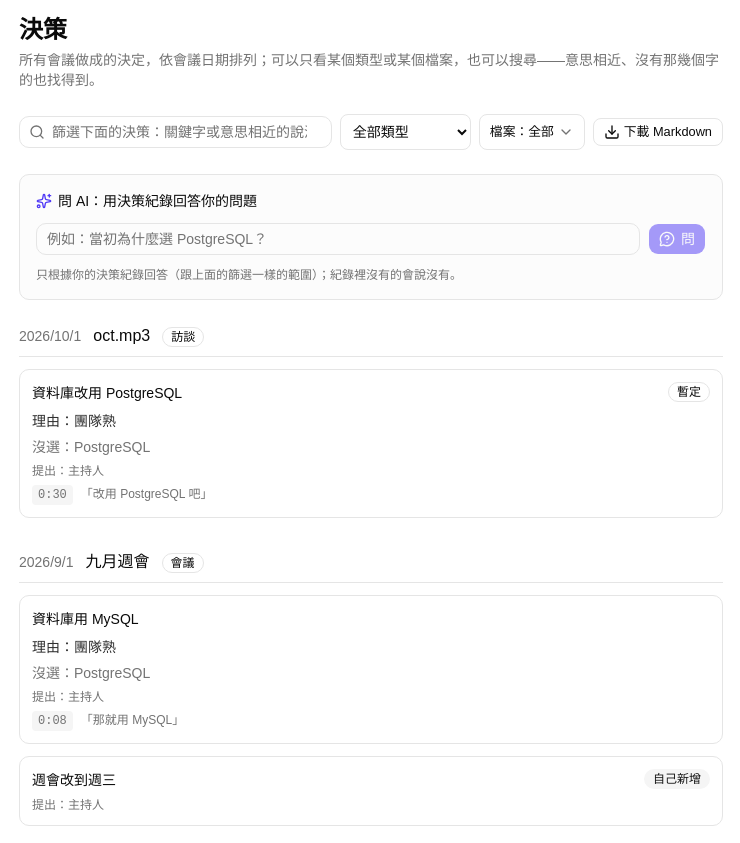
Scenario: DecisionsPage › searches once typing pauses, showing the best matches first with their meeting
The width and height of the screenshot is (740, 843).
Type "資料庫" into the search field named "搜尋決策" at coordinates (175, 132), box [19, 116, 332, 148]
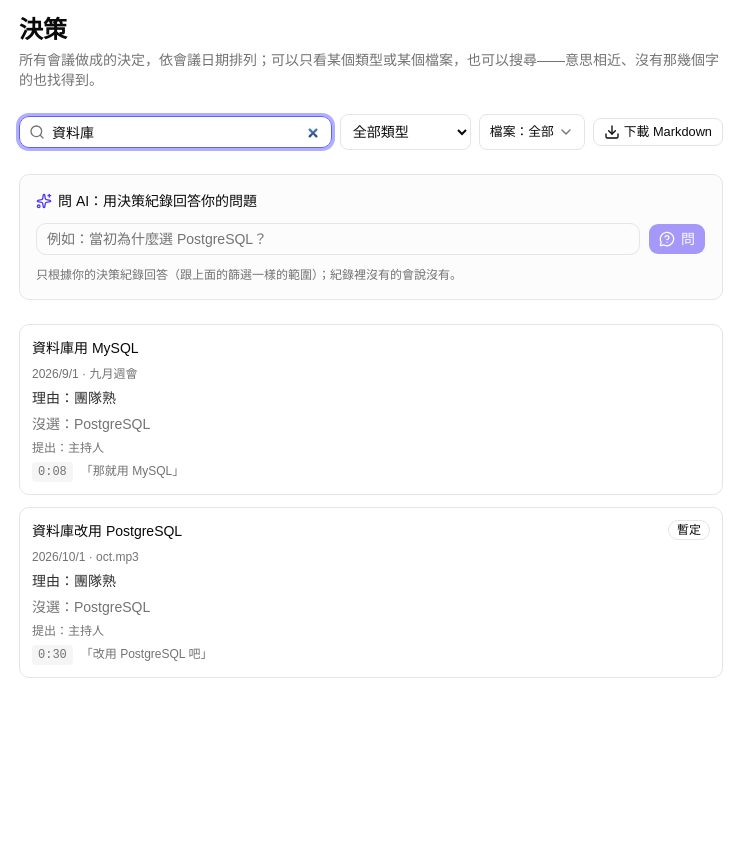
Check: the list item that starts with "資料庫用 MySQL" shows "九月週會", box [89, 367, 137, 381]
